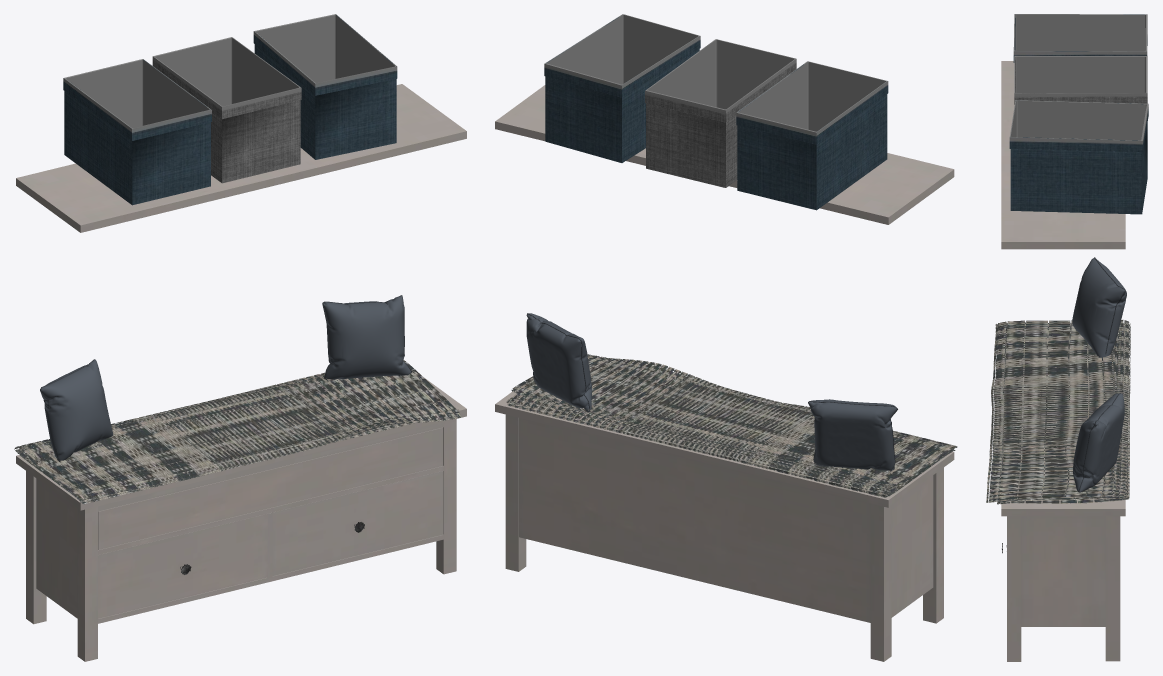
The model's file is hall-bench.glb.
3 views of the same model, side by side, from view 1: azimuth 30°, elevation 25°; view 2: azimuth 150°, elevation 25°; view 3: azimuth 270°, elevation 25° (orthographic). The views are drawn at different scales.
Parts seen in each view (by area): view 1: Object_10, Object_1, Object_7, Object_0, Object_3; view 2: Object_10, Object_1, Object_7, Object_0, Object_3; view 3: Object_10, Object_7, Object_1, Object_3, Object_0, Object_4.
Boxes of the visible parts, x1,y1,x2,y2 form: Object_10: (16, 84, 466, 661); Object_1: (63, 14, 397, 205); Object_7: (14, 360, 461, 504); Object_0: (152, 37, 301, 183); Object_3: (40, 296, 410, 462); Object_10: (495, 85, 954, 661); Object_1: (544, 14, 888, 210); Object_7: (506, 354, 957, 497); Object_0: (645, 39, 796, 187); Object_3: (526, 313, 896, 471); Object_10: (1001, 61, 1125, 661); Object_7: (986, 320, 1130, 504); Object_1: (1009, 14, 1148, 214); Object_3: (1072, 258, 1126, 492); Object_0: (1014, 56, 1147, 104); Object_4: (1078, 257, 1125, 492).
Bounding box in the file's own units: 1.19 × 1.52 × 0.4497.
Materials: 6 (4 with a texture image).
